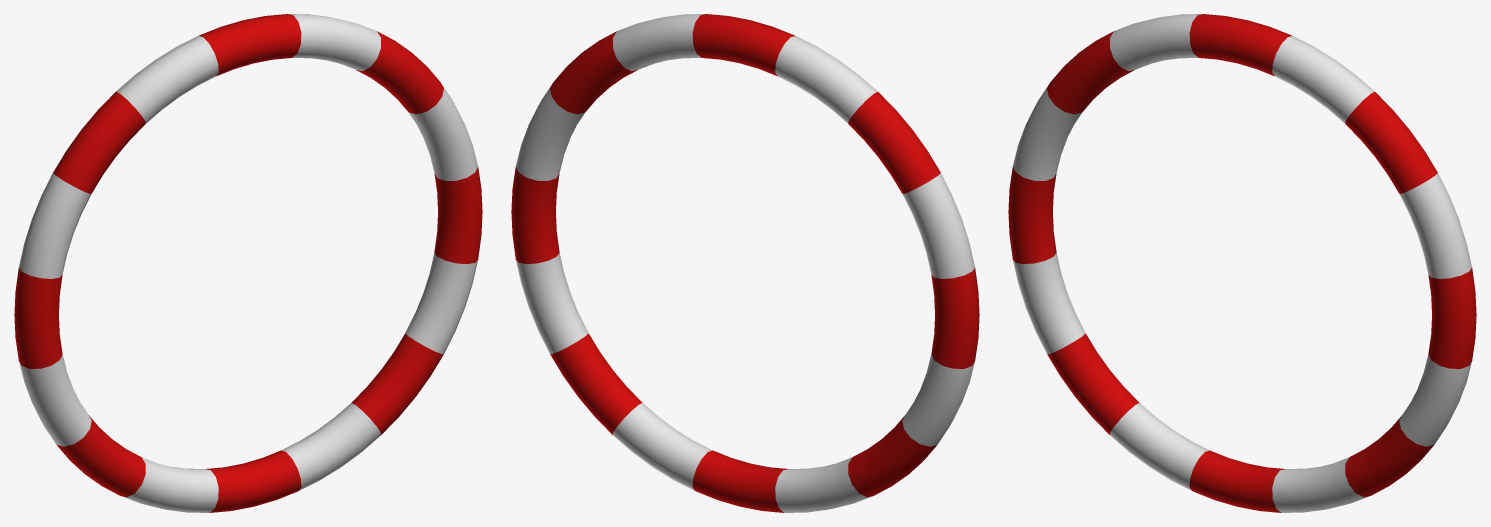
Rendered from ring.dae.
3 views of the same model, side by side, from view 1: azimuth 30°, elevation 25°; view 2: azimuth 150°, elevation 25°; view 3: azimuth 330°, elevation 25° (orthographic).
Parts seen in each view (by area): view 1: ring; view 2: ring; view 3: ring.
Boxes of the visible parts, <box> form: ring: <box>14,14,482,512</box>; ring: <box>511,14,979,512</box>; ring: <box>1008,14,1476,512</box>.
Size of the model in its own units: 7.2 by 0.6 by 7.2.
